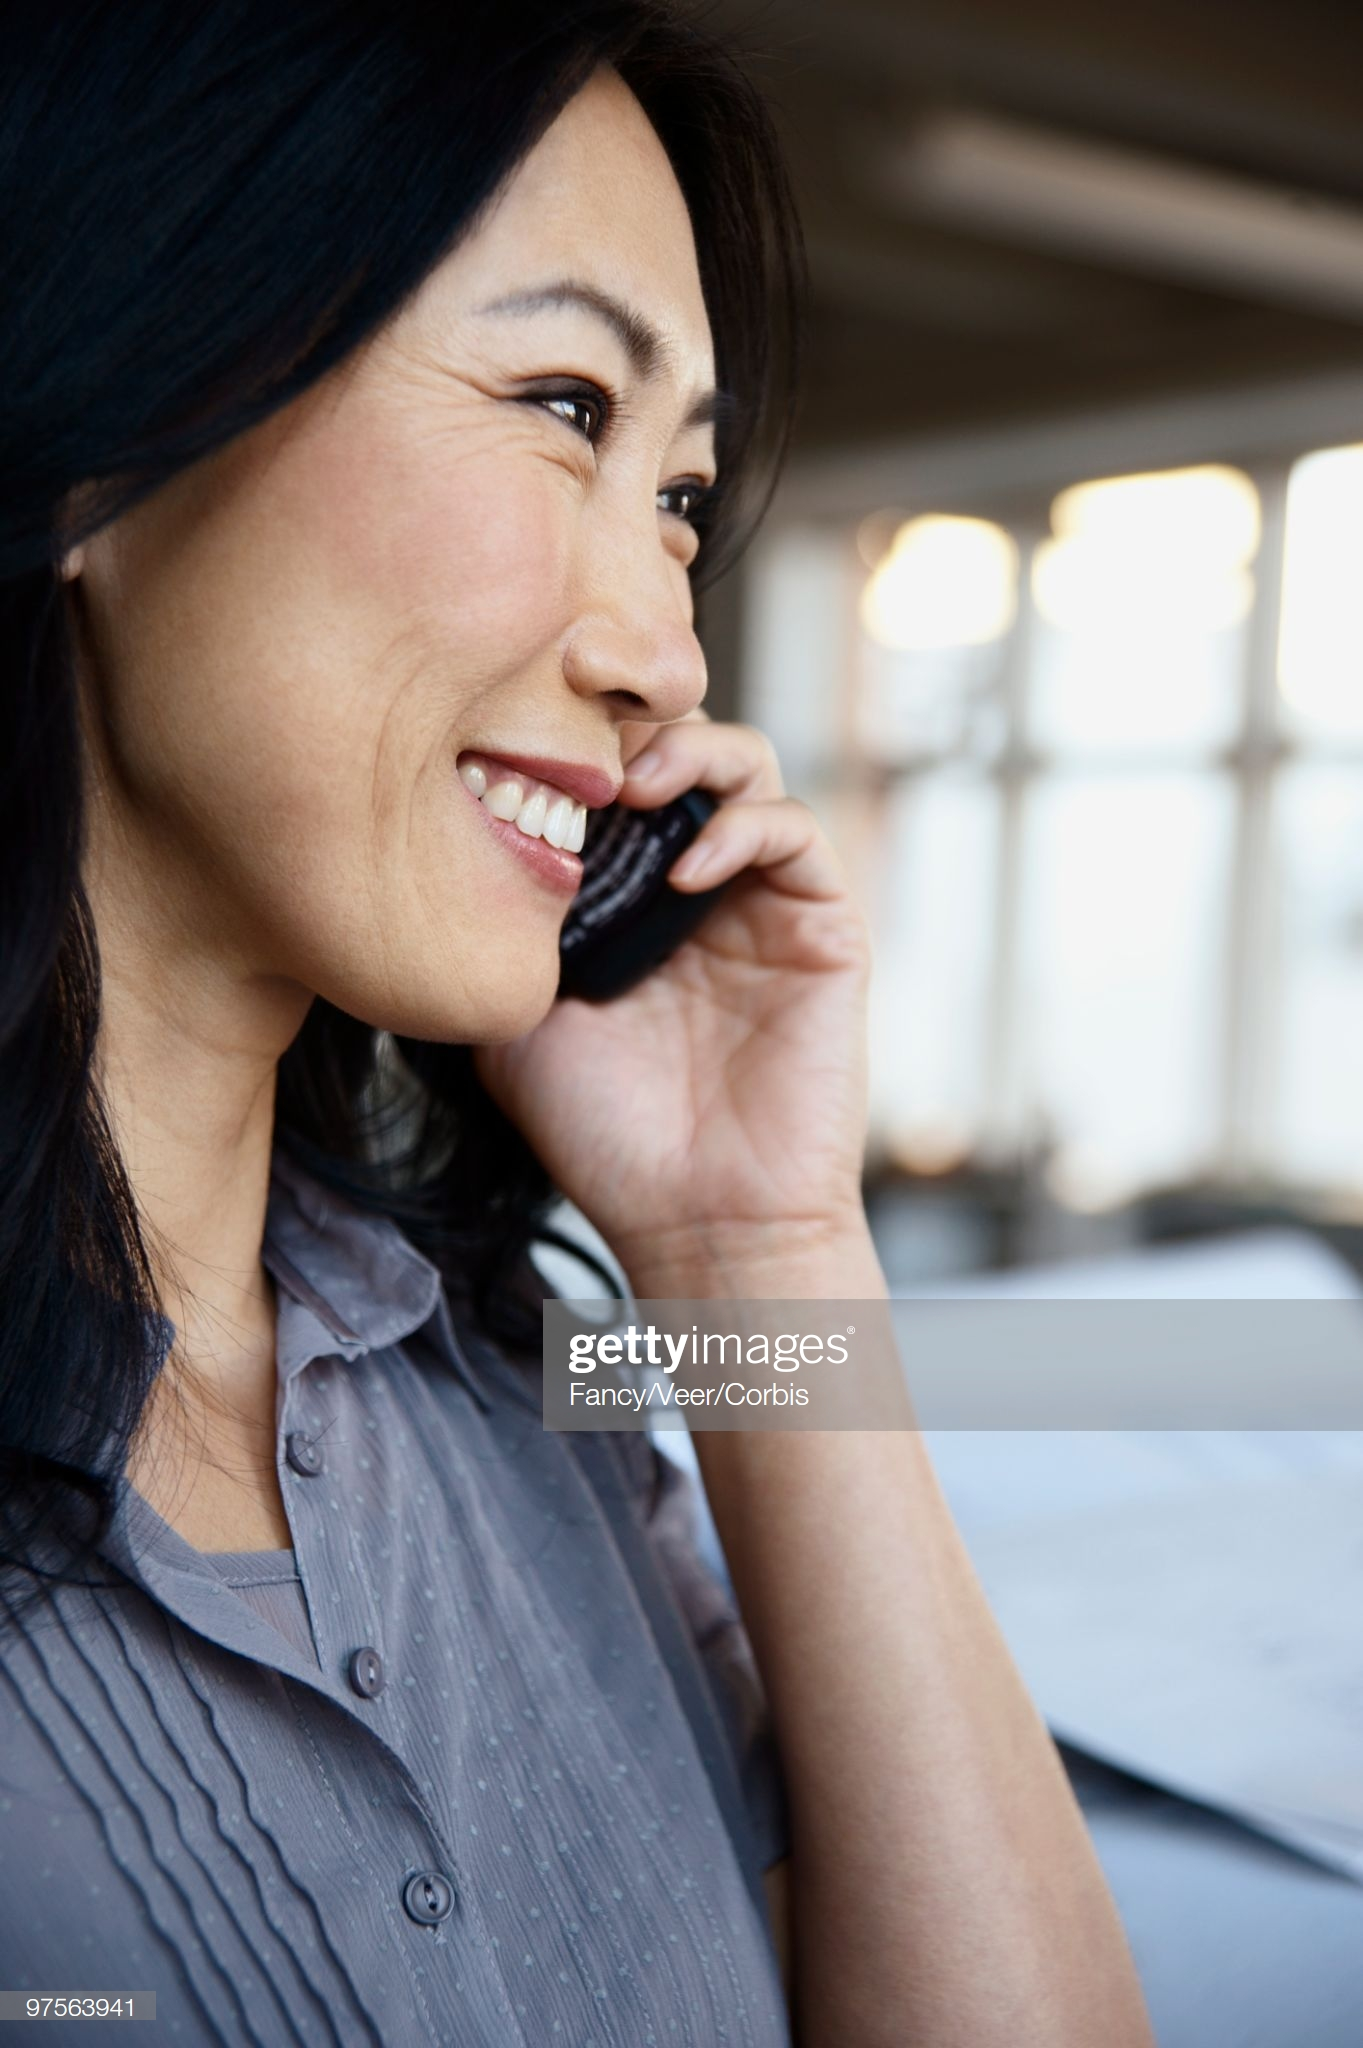phone: (522, 681, 891, 1210)
